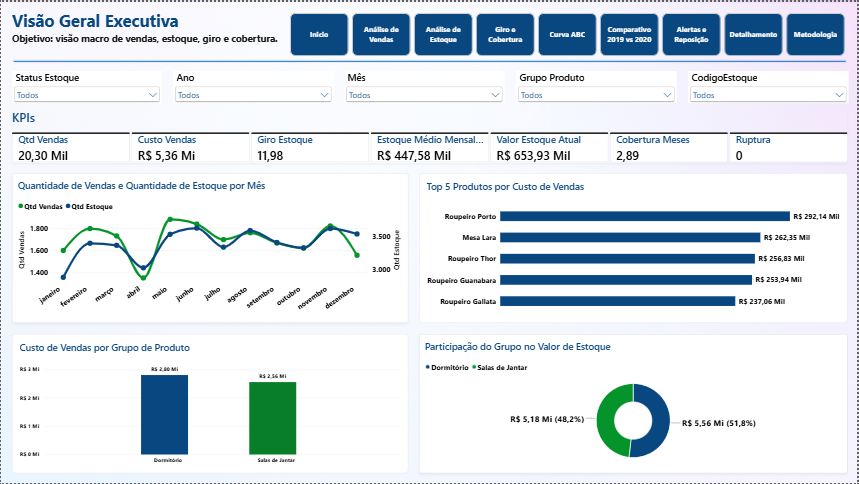

What the dashboard file says about the page in this screenshot:
{"tool":"powerbi","page":{"name":"Visão Geral Executiva","canvas":[1920,1080],"ordinal":1},"visuals":[{"type":"textbox","box":[24,0,624,120],"z":0},{"type":"pageNavigator","title":"Áreas de Análise:","box":[648,24,1248,96],"z":1000},{"type":"shape","box":[24,120,1872,24],"z":2000},{"type":"cardVisual","title":"KPIs","fields":{"Data":["Medidas.Qtd Vendas","Medidas.Custo Vendas","Medidas.Giro Estoque","MedidasDeCorrecao.Estoque Médio Mensal (R$)","MedidasDeCorrecao.Valor Estoque Atual","Medidas.Cobertura Meses","Medidas.Ruptura"]},"box":[24,240,1872,120],"z":3000},{"type":"lineChart","title":"Quantidade de Vendas e Quantidade de Estoque por Mês","fields":{"Category":["dCalendario.Mês"],"Y":["Medidas.Qtd Vendas"],"Y2":["Medidas.Qtd Estoque"]},"box":[24,384,888,336],"z":4000},{"type":"clusteredColumnChart","title":"Custo de Vendas por Grupo de Produto","fields":{"Category":["dGrupoProduto.Grupo Produto"],"Y":["Medidas.Custo Vendas"]},"box":[24,744,888,312],"z":5000},{"type":"barChart","title":"Top 5 Produtos por Custo de Vendas","fields":{"Category":["dProduto.Descrição Produto"],"Y":["Medidas.Custo Vendas"]},"box":[936,384,960,336],"z":6000},{"type":"donutChart","title":"Participação do Grupo no Valor de Estoque","fields":{"Category":["dGrupoProduto.Grupo Produto"],"Y":["Medidas.Valor Estoque"]},"box":[936,744,960,312],"z":7000},{"type":"slicer","fields":{"Values":["dCalendario.Ano"]},"box":[384.6,155.2,360,72],"z":8000},{"type":"slicer","fields":{"Values":["dCalendario.Mês"]},"box":[769.2,155.2,360,72],"z":9000},{"type":"slicer","fields":{"Values":["dGrupoProduto.Grupo Produto"]},"box":[1153.8,155.2,360,72],"z":10000},{"type":"slicer","fields":{"Values":["dEstoque.CodigoEstoque"]},"box":[1538.4,155.2,360,72],"z":11000},{"type":"slicer","fields":{"Values":["dProduto.Status Estoque (coluna)"]},"box":[24,155.2,336,72],"z":12000}]}

Visuals, with their boxes in screenshot pixels (x1, y1, x2, y2), scaled from the page's 1920x1080 canvas onto the 859x484 screenshot:
textbox: box(11, 0, 290, 54)
"Áreas de Análise:" pageNavigator: box(290, 11, 848, 54)
shape: box(11, 54, 848, 65)
"KPIs" cardVisual: box(11, 108, 848, 161)
"Quantidade de Vendas e Quantidade de Estoque por Mês" lineChart: box(11, 172, 408, 323)
"Custo de Vendas por Grupo de Produto" clusteredColumnChart: box(11, 333, 408, 473)
"Top 5 Produtos por Custo de Vendas" barChart: box(419, 172, 848, 323)
"Participação do Grupo no Valor de Estoque" donutChart: box(419, 333, 848, 473)
slicer - dCalendario.Ano: box(172, 70, 333, 102)
slicer - dCalendario.Mês: box(344, 70, 505, 102)
slicer - dGrupoProduto.Grupo Produto: box(516, 70, 677, 102)
slicer - dEstoque.CodigoEstoque: box(688, 70, 849, 102)
slicer - dProduto.Status Estoque (coluna): box(11, 70, 161, 102)
